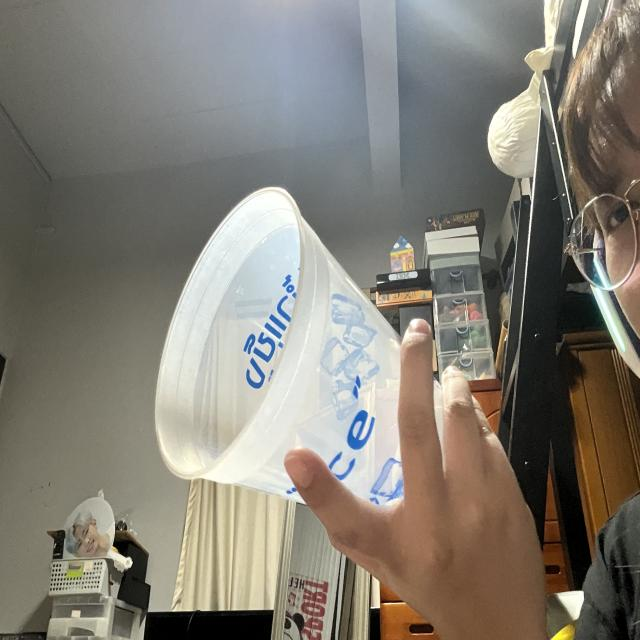cup: (153, 185, 487, 524)
